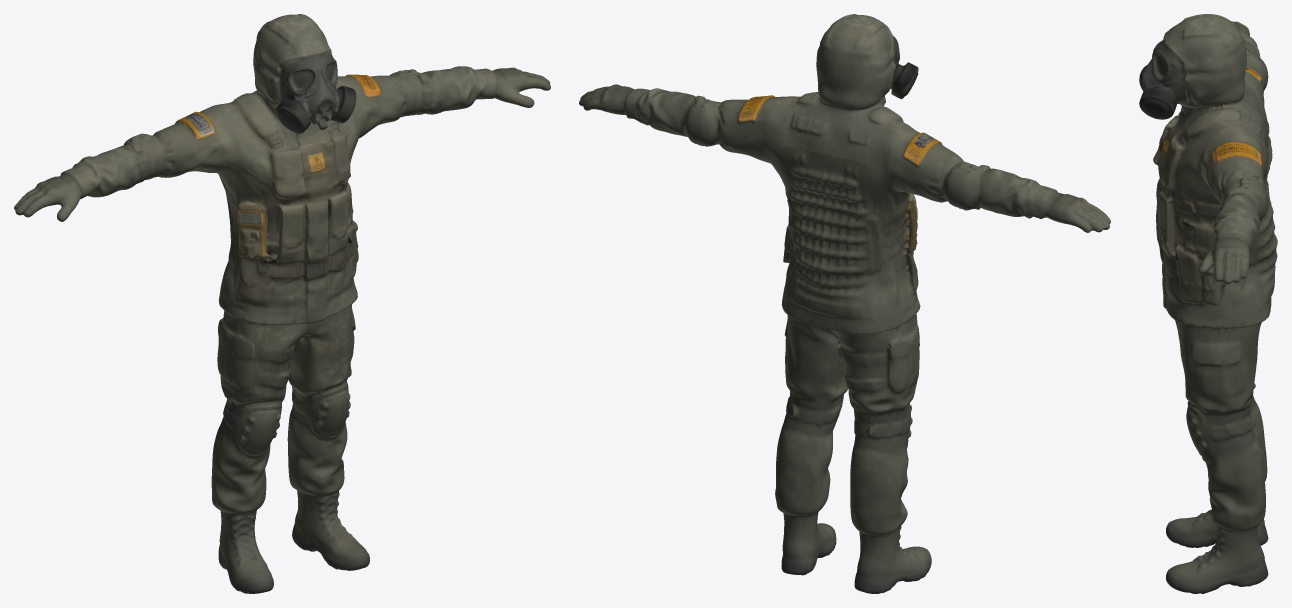
File: Meshy_AI_Player_0307103948_texture.fbx
The picture shows the model from 3 angles, left to right: view 1: azimuth 30°, elevation 25°; view 2: azimuth 150°, elevation 25°; view 3: azimuth 270°, elevation 25°; orthographic projection.
Visible parts, largest first — view 1: Mesh_0; view 2: Mesh_0; view 3: Mesh_0.
Part boxes in pixels (x1,y1,x2,y2): Mesh_0: [14, 14, 550, 593]; Mesh_0: [579, 14, 1110, 593]; Mesh_0: [1139, 14, 1277, 593].
Bounding box in the file's own units: 191 × 189 × 43.52.
1 material, 1 textured.
